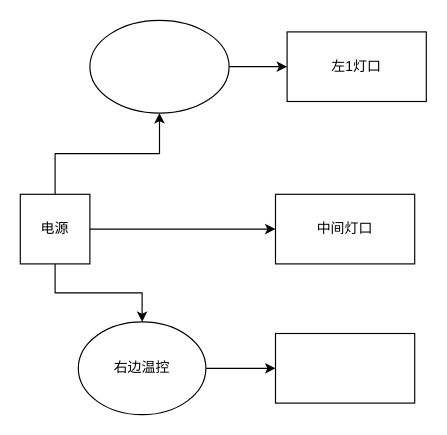
The diagram is 447 pixels wide and 435 high, and some of its shapes have lost their labels. The shapes that lost their labels are listed below. From the top down, each one's box as (x1, y1, x2, y2) in pixels, then its label:
(89, 19, 229, 113): 左边温控
(274, 332, 415, 403): 右1灯口
